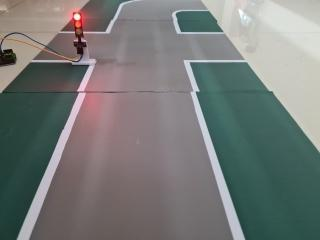red: (67, 6, 88, 53)
